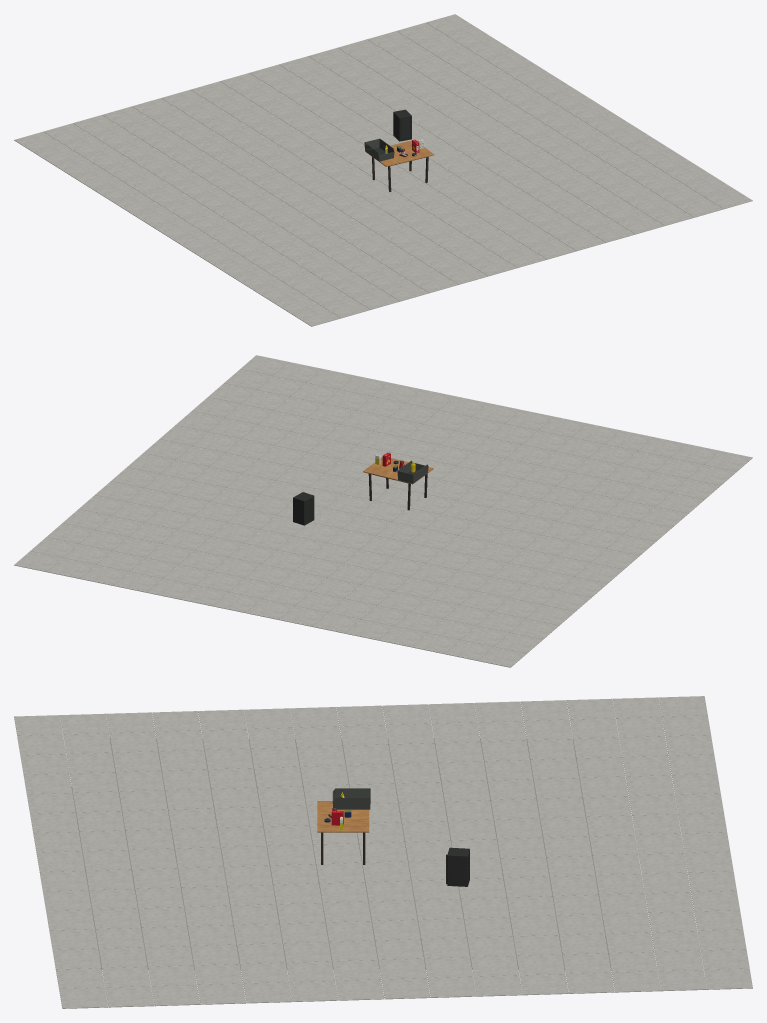
Rendered from codex.glb.
3 renders of one model, top to bottom at view 1: azimuth 30°, elevation 25°; view 2: azimuth 150°, elevation 25°; view 3: azimuth 270°, elevation 25°, orthographic. The views are drawn at different scales.
Visible parts, largest first — view 1: Oak laminated table top, Stone tile -7 -6, Stone tile -6 -6, Stone tile 1 -6, Stone tile 7 -6, Stone tile 0 -6, Stone tile 2 -6, Stone tile -1 -6, Stone tile -2 -6, Stone tile -7 8, Stone tile 6 -6, Stone tile -3 -6 (+204 smaller); view 2: Dark cabinet block, Stone tile -7 8, Stone tile 2 8, Stone tile 6 8, Stone tile -1 8, Stone tile -2 8, Stone tile -3 8, Stone tile -4 8, Stone tile 0 8, Stone tile 3 8, Stone tile 4 8, Stone tile 5 8 (+208 smaller); view 3: Continuous grout bed, Oak laminated table top, Stone tile 7 6, Stone tile 7 -2, Stone tile 7 0, Stone tile 7 1, Stone tile 7 -3, Stone tile 7 3, Stone tile 7 -5, Stone tile 7 5, Stone tile 7 4, Stone tile 7 8 (+215 smaller).
Boxes of the visible parts, x1,y1,x2,y2 form: Oak laminated table top: (366,140,434,166); Stone tile -7 -6: (292,306,340,326); Stone tile -6 -6: (321,297,369,318); Stone tile 1 -6: (527,238,575,259); Stone tile 7 -6: (704,188,752,209); Stone tile 0 -6: (498,247,546,267); Stone tile 2 -6: (557,230,605,251); Stone tile -1 -6: (469,255,517,276); Stone tile -2 -6: (439,264,487,284); Stone tile -7 8: (14,131,62,152); Stone tile 6 -6: (675,196,723,217); Stone tile -3 -6: (410,272,458,293); Dark cabinet block: (293,492,314,525); Stone tile -7 8: (478,647,526,667); Stone tile 2 8: (179,585,228,606); Stone tile 6 8: (47,558,95,578); Stone tile -1 8: (279,606,327,626); Stone tile -2 8: (312,612,360,633); Stone tile -3 8: (345,619,393,640); Stone tile -4 8: (378,626,426,647); Stone tile 0 8: (246,599,294,619); Stone tile 3 8: (146,578,194,599); Stone tile 4 8: (113,571,161,592); Stone tile 5 8: (80,565,128,585); Continuous grout bed: (71,739,611,969); Oak laminated table top: (317,801,369,832); Stone tile 7 6: (612,971,660,992); Stone tile 7 -2: (243,982,292,1003); Stone tile 7 0: (335,979,384,1000); Stone tile 7 1: (381,978,430,999); Stone tile 7 -3: (197,983,246,1004); Stone tile 7 3: (473,975,522,996); Stone tile 7 -5: (105,986,153,1007); Stone tile 7 5: (565,972,614,993); Stone tile 7 4: (519,974,568,995); Stone tile 7 8: (704,968,752,989).
Size of the model in its own units: 16.32 by 1.3 by 16.32.
Materials: 250 (226 with a texture image).
